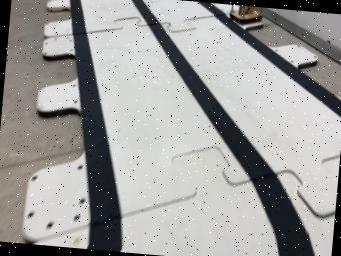stop: (229, 6, 262, 25), (229, 6, 262, 25), (229, 6, 262, 25), (229, 6, 262, 25), (229, 6, 262, 25)
street: (66, 0, 341, 256), (66, 0, 341, 256), (66, 0, 341, 256), (66, 0, 341, 256), (66, 0, 341, 256)
